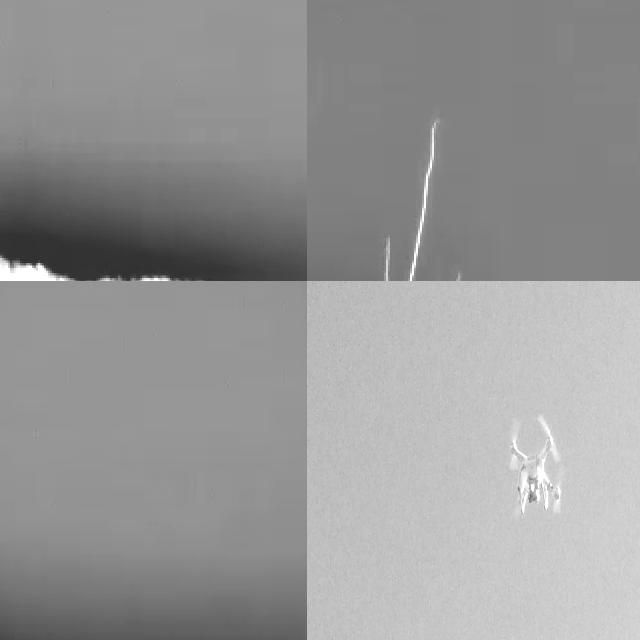drone: (503, 406, 569, 523)
